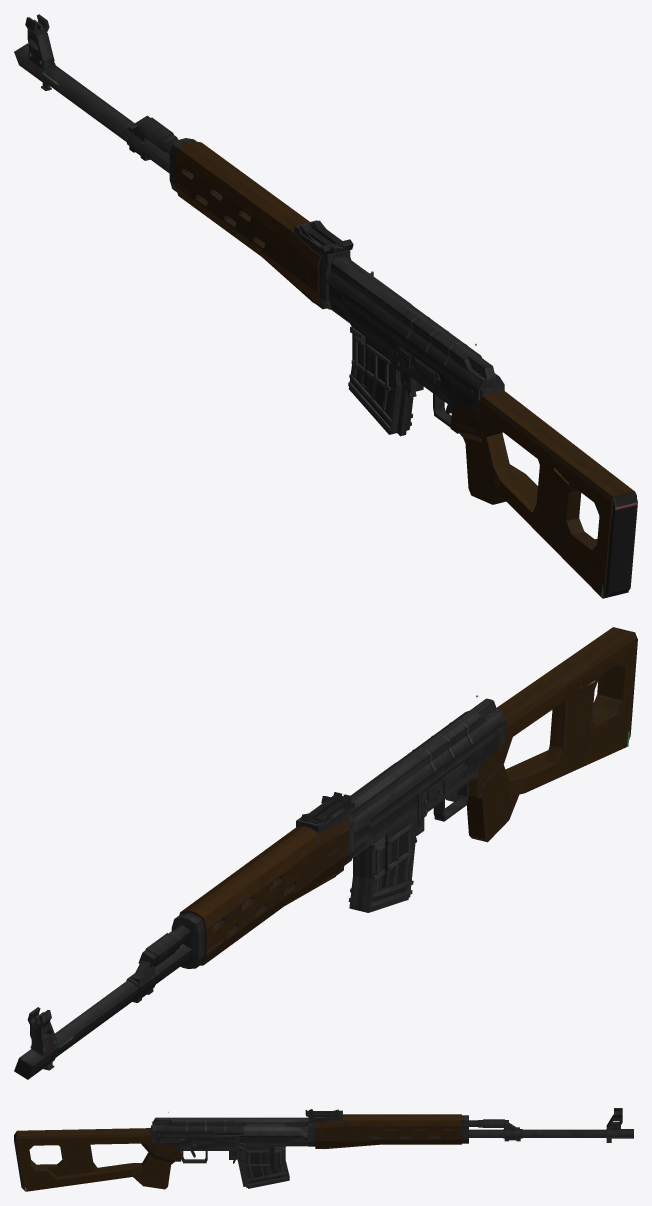
File: a8_svd.geo.fbx
The picture shows the model from 3 angles, top to bottom: view 1: azimuth 30°, elevation 25°; view 2: azimuth 150°, elevation 25°; view 3: azimuth 270°, elevation 25°; orthographic projection. The views are drawn at different scales.
Parts seen in each view (by area): view 1: pistolgrip, handguard2, dustcover, magazine, barrel, reciever, frontsight, bone5, rearsight, handguard; view 2: pistolgrip, handguard2, dustcover, barrel, magazine, reciever, frontsight, handguard, rearsight, bone5, handguard3, sidemount; view 3: pistolgrip, handguard3, reciever, dustcover, magazine, barrel, bolt, bone6, frontsight, handguard2, rearsight, handguard (+2 smaller).
Boxes of the visible parts, <box> form: pistolgrip: <box>450,391,637,598</box>; handguard2: <box>175,141,326,309</box>; dustcover: <box>326,256,504,400</box>; magazine: <box>348,326,413,436</box>; barrel: <box>42,64,264,242</box>; reciever: <box>329,285,504,427</box>; frontsight: <box>14,14,55,90</box>; bone5: <box>328,255,486,368</box>; rearsight: <box>294,220,353,262</box>; handguard: <box>169,138,351,309</box>; pistolgrip: <box>466,627,637,842</box>; handguard2: <box>189,817,349,965</box>; dustcover: <box>350,698,505,833</box>; barrel: <box>55,879,290,1057</box>; magazine: <box>348,817,415,912</box>; reciever: <box>352,730,505,857</box>; frontsight: <box>14,1007,59,1079</box>; handguard: <box>171,814,354,968</box>; rearsight: <box>296,792,354,833</box>; bone5: <box>352,700,493,811</box>; handguard3: <box>179,826,303,933</box>; sidemount: <box>421,762,467,806</box>; pistolgrip: <box>14,1128,181,1191</box>; handguard3: <box>315,1116,461,1149</box>; reciever: <box>150,1125,308,1163</box>; dustcover: <box>152,1117,308,1136</box>; magazine: <box>237,1147,289,1188</box>; barrel: <box>370,1119,606,1141</box>; bolt: <box>241,1124,308,1141</box>; bone6: <box>155,1118,308,1122</box>; frontsight: <box>606,1108,633,1142</box>; handguard2: <box>343,1114,461,1129</box>; rearsight: <box>305,1109,342,1122</box>; handguard: <box>308,1115,468,1146</box>.
Bounding box in the file's own units: 45.44 × 135 × 967.
1 material, 1 textured.
